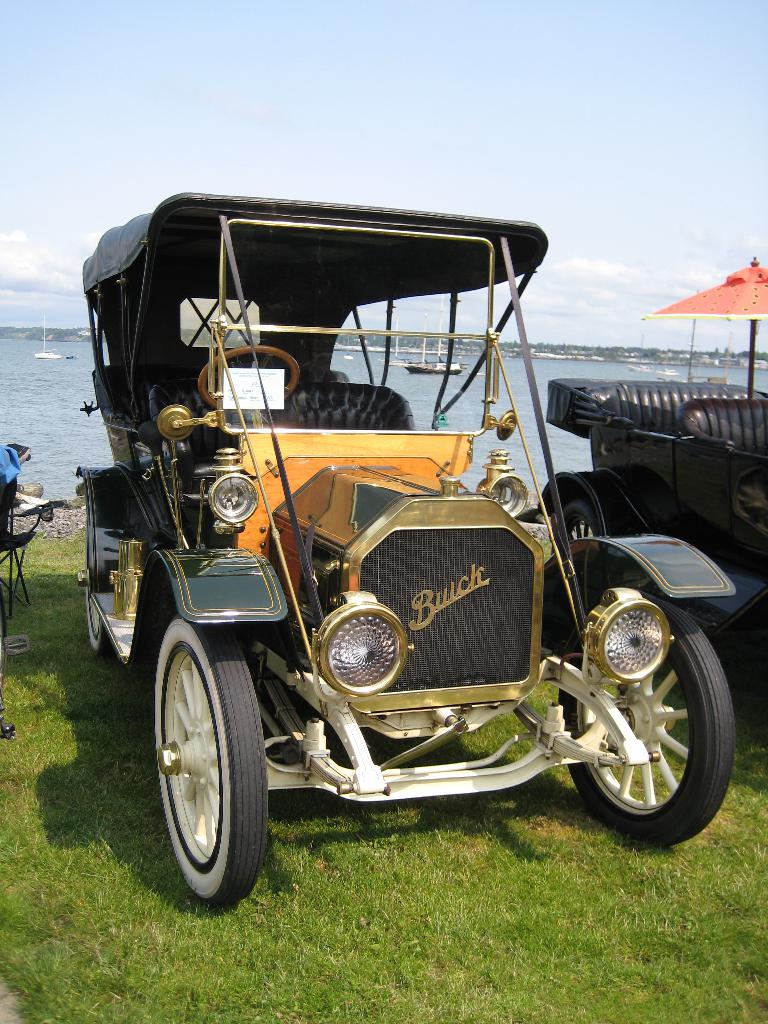cars: (72, 191, 735, 905), (533, 374, 767, 666)
